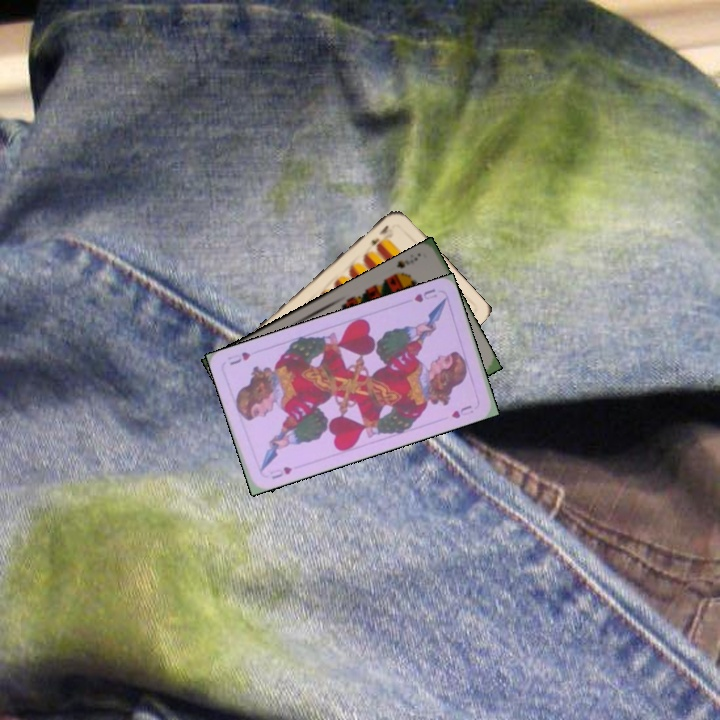E10: (367, 221, 391, 249)
HU: (410, 284, 440, 305), (266, 462, 295, 482)
S9: (392, 252, 421, 271)
